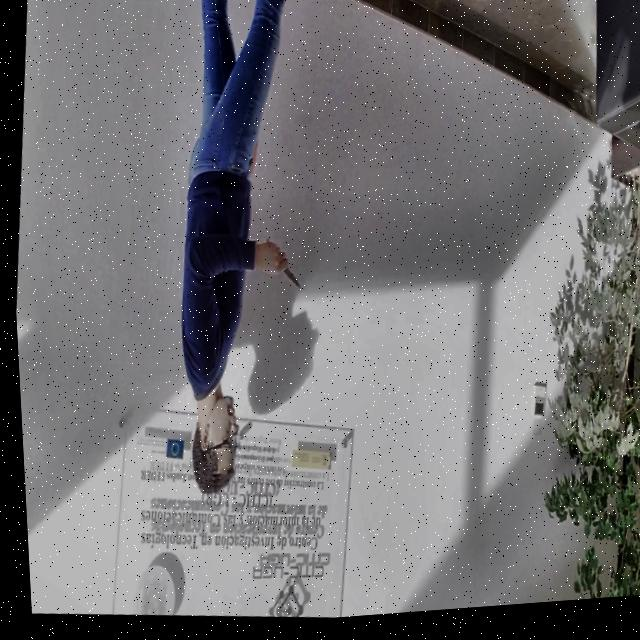knife: (277, 269, 299, 295)
